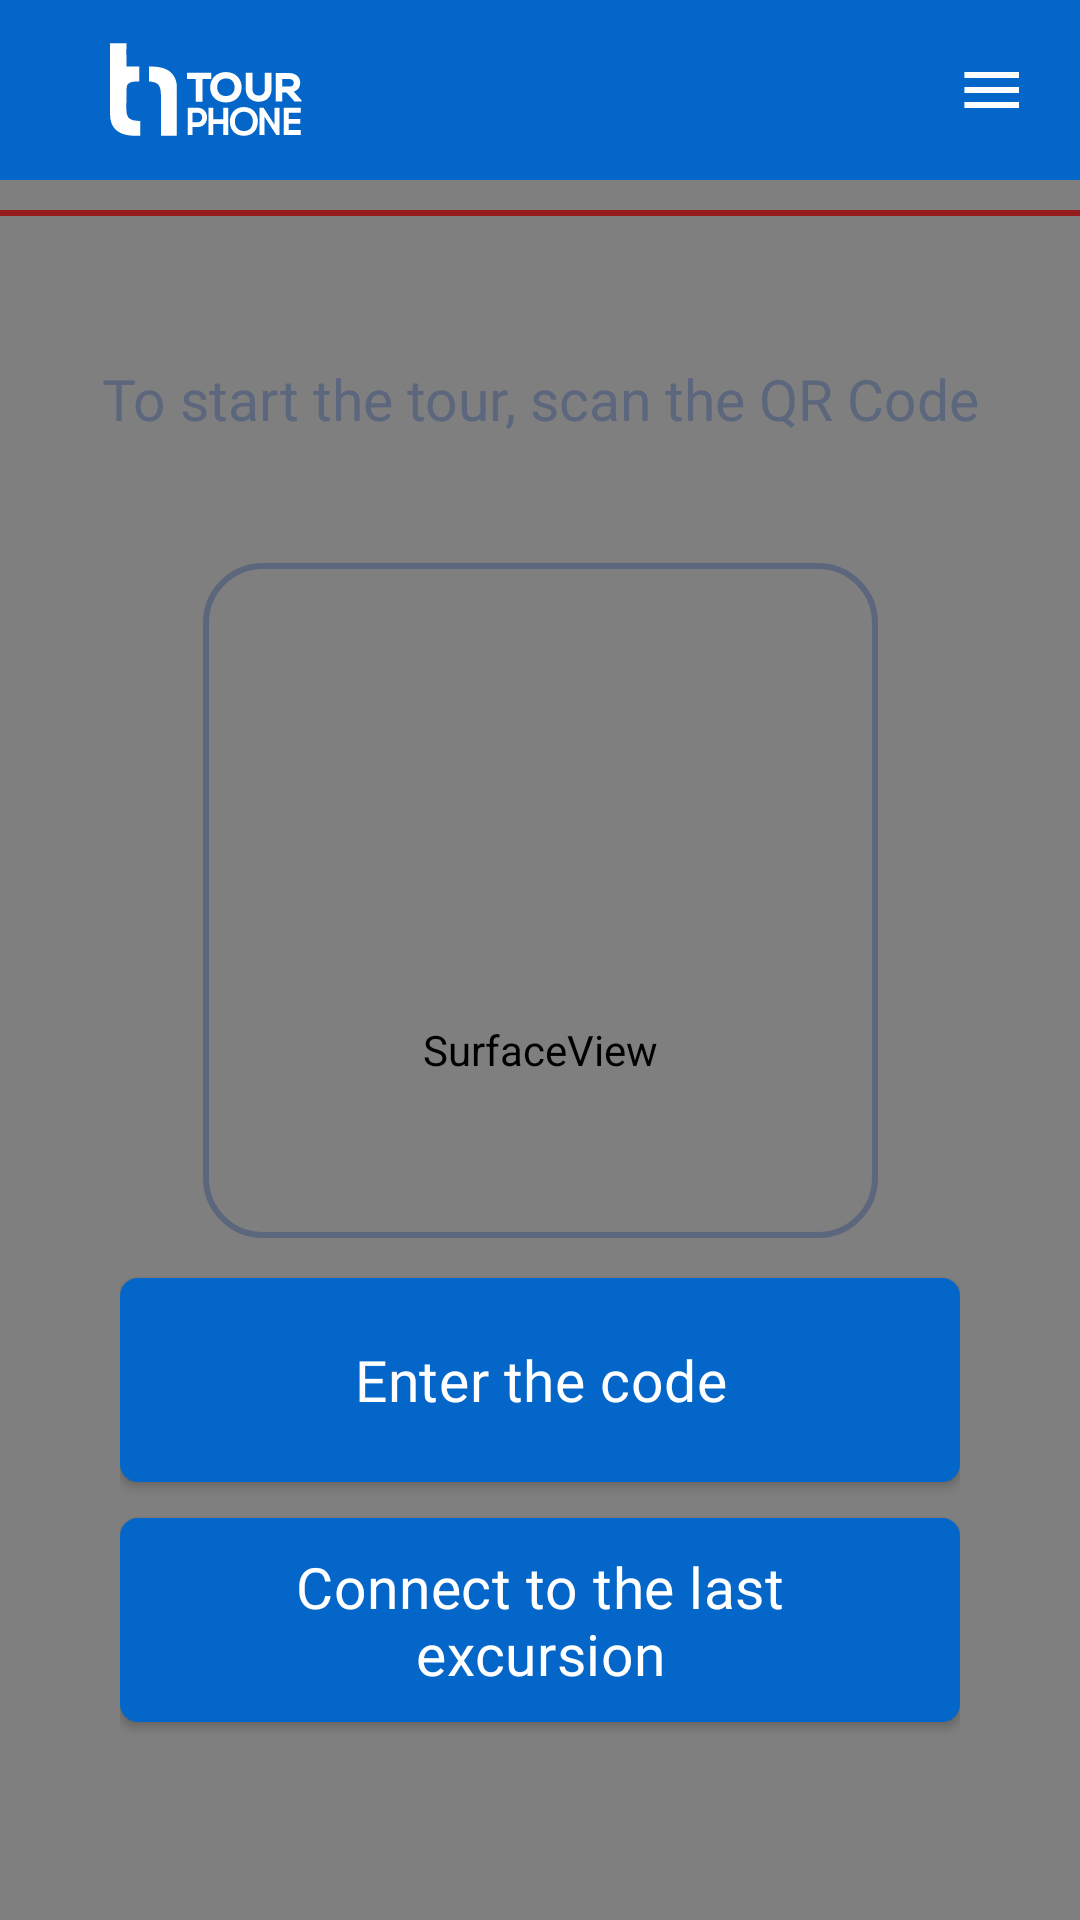

Locate icon controls on the screen. Image size 1080*1920, boxes as detection(x1, y1, x2, y2).
burger: detection(964, 72, 1019, 108)
